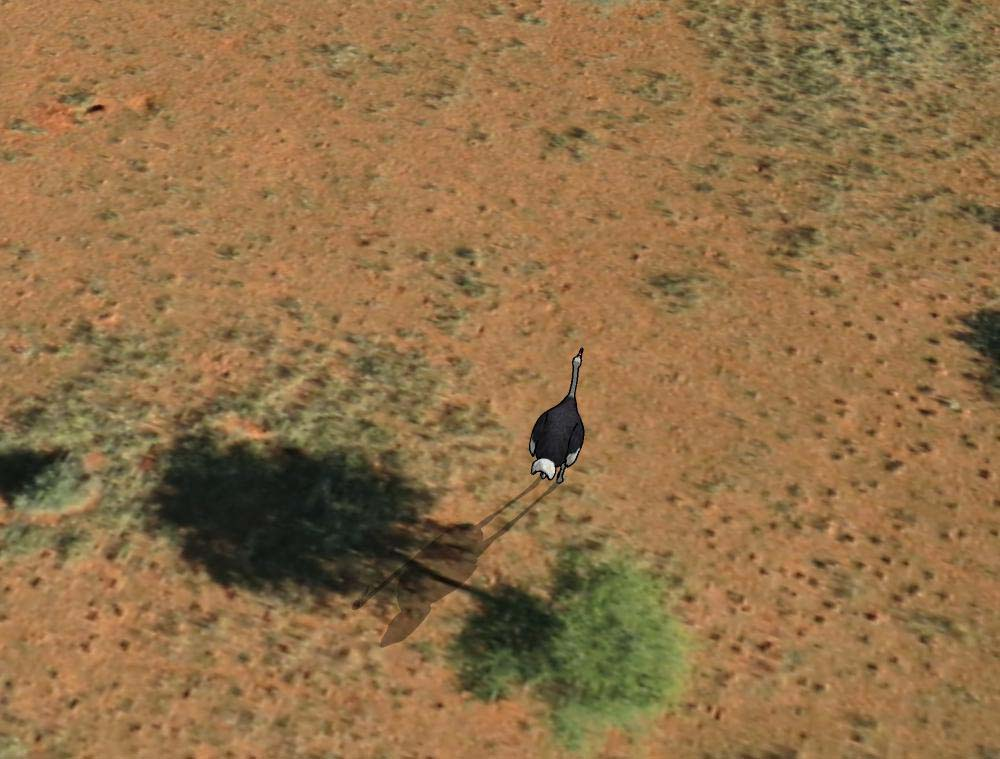ostrich: (526, 347, 592, 489)
